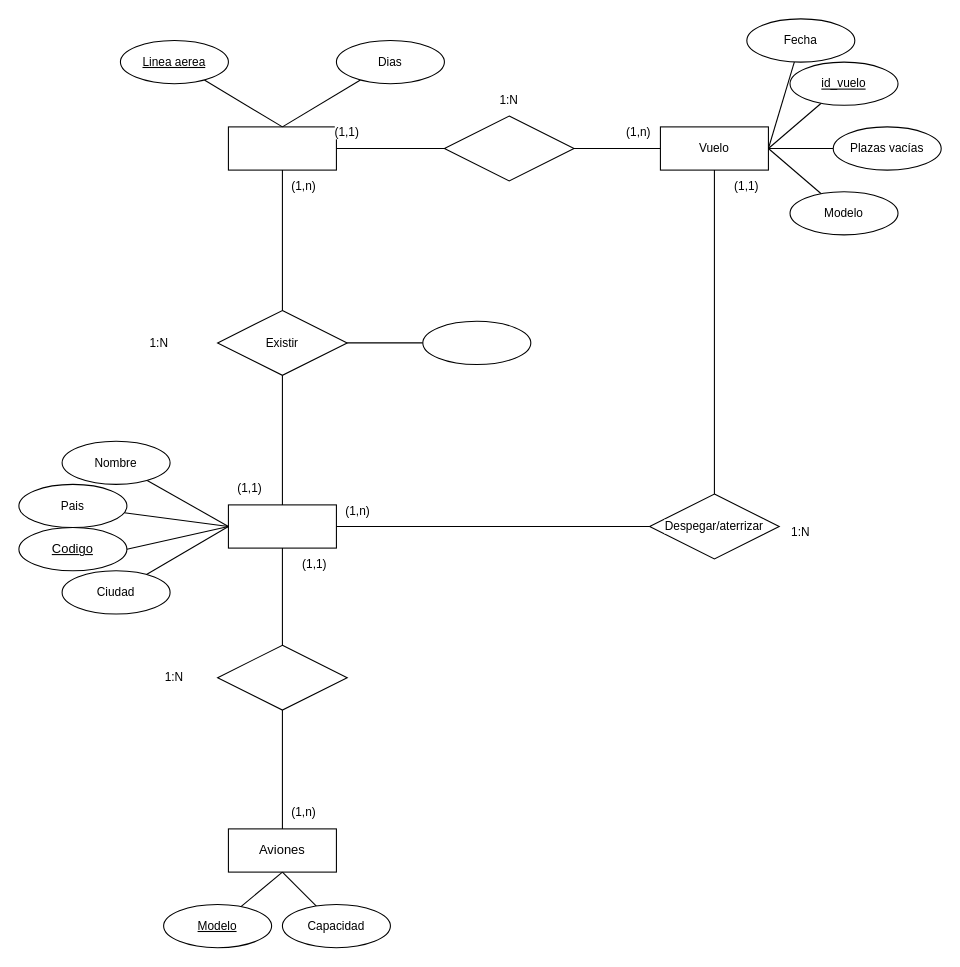
The diagram is 960 pixels wide and 967 high, and some of its shapes have lost their labels. Here are the shapes that lost their labels. From the top down, the centre of each, then its label:
point (281, 148): Programa de vuelo
point (508, 148): Pertenecer
point (476, 342): Escalas técnicas
point (281, 526): Aeropuerto
point (282, 677): Tomar tierra
